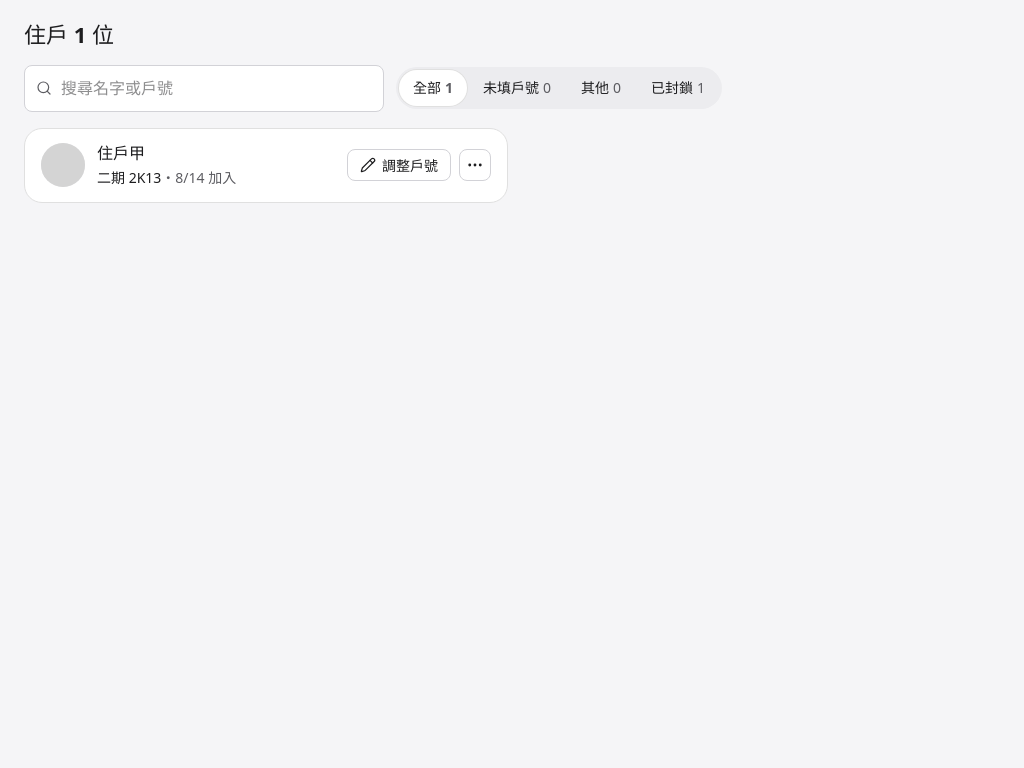
ResidentMemberManagementApp › requires confirmation before removing and blocking a resident
This screenshot has width=1024, height=768.
Click the button named "更多操作 住戶甲".
click(475, 165)  # box [459,149,491,181]
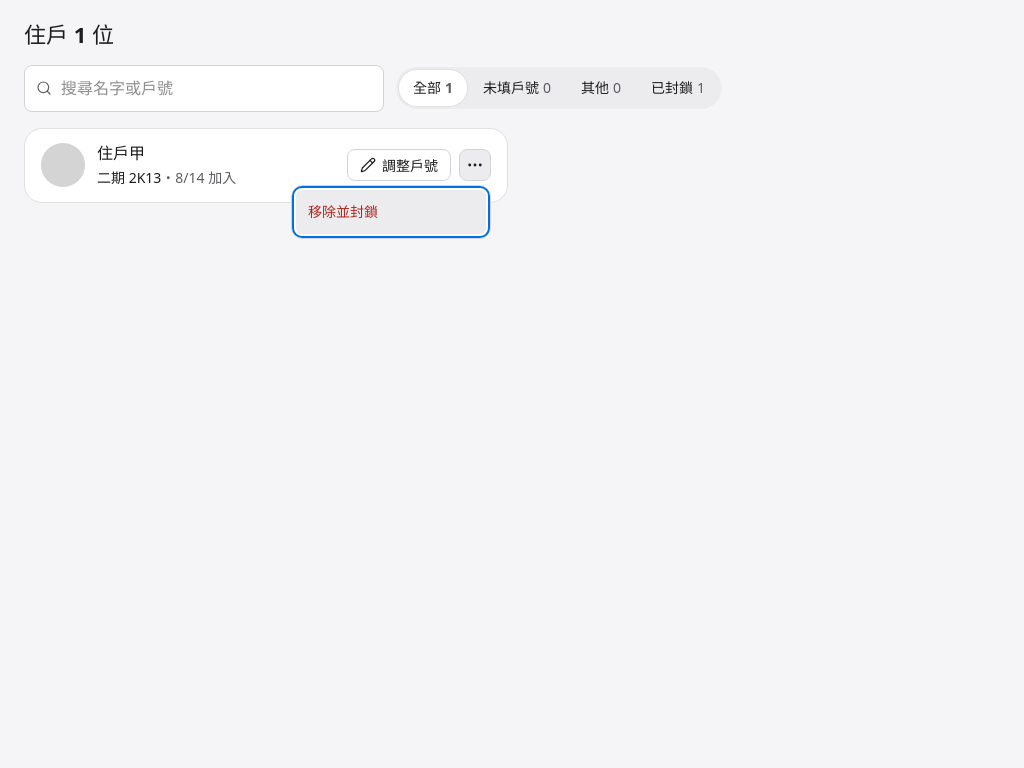
Click the menu item with aria-label "移除並封鎖 住戶甲".
click(391, 212)  # box [296,190,486,234]
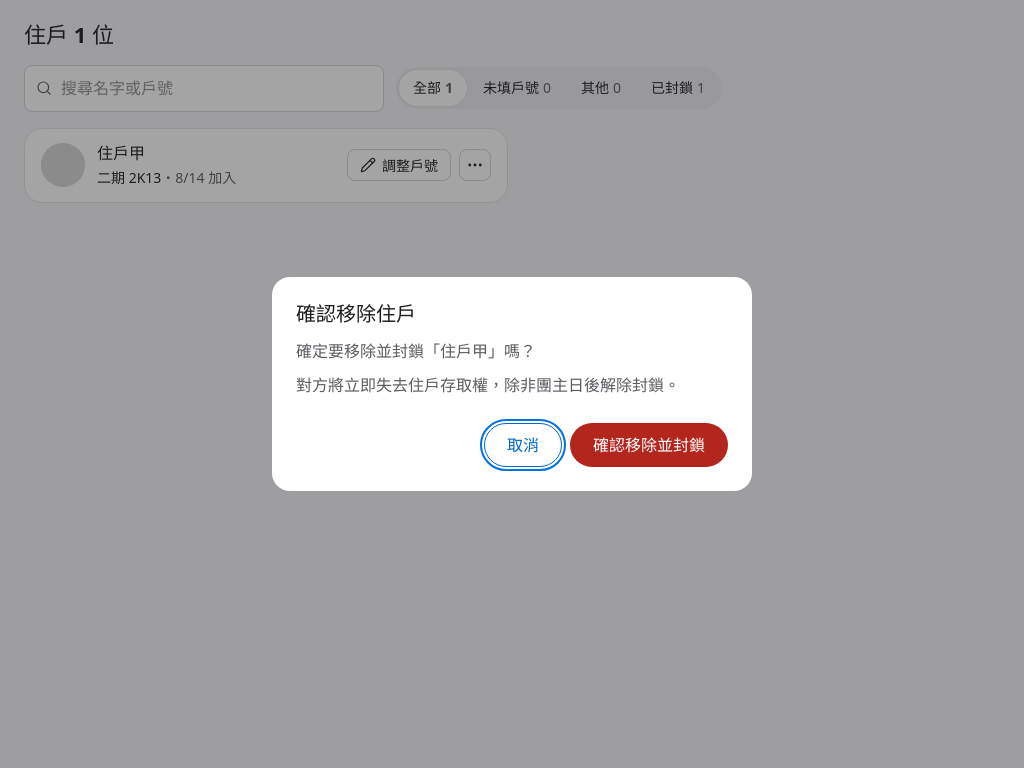
Expected: the dialog "確認移除住戶" is shown, [272,277,752,491]
Click the button "確認移除並封鎖".
click(649, 445)  # box [570,423,728,467]
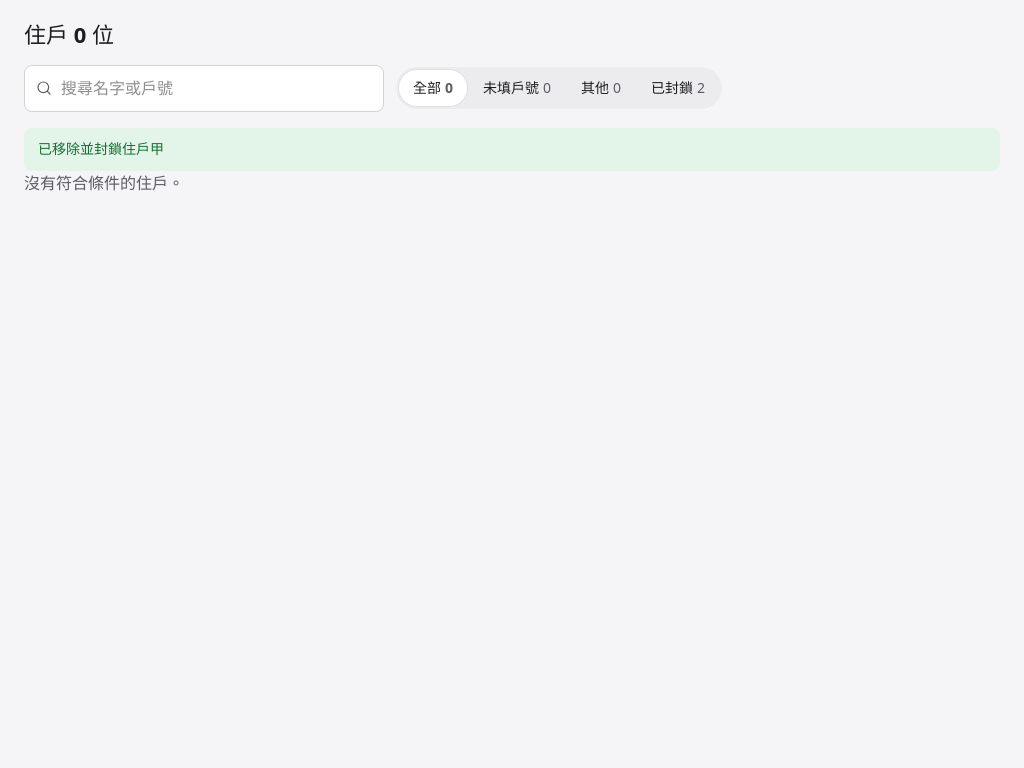
Expected: the text "已移除並封鎖住戶甲" is shown, [38,138,164,161]
